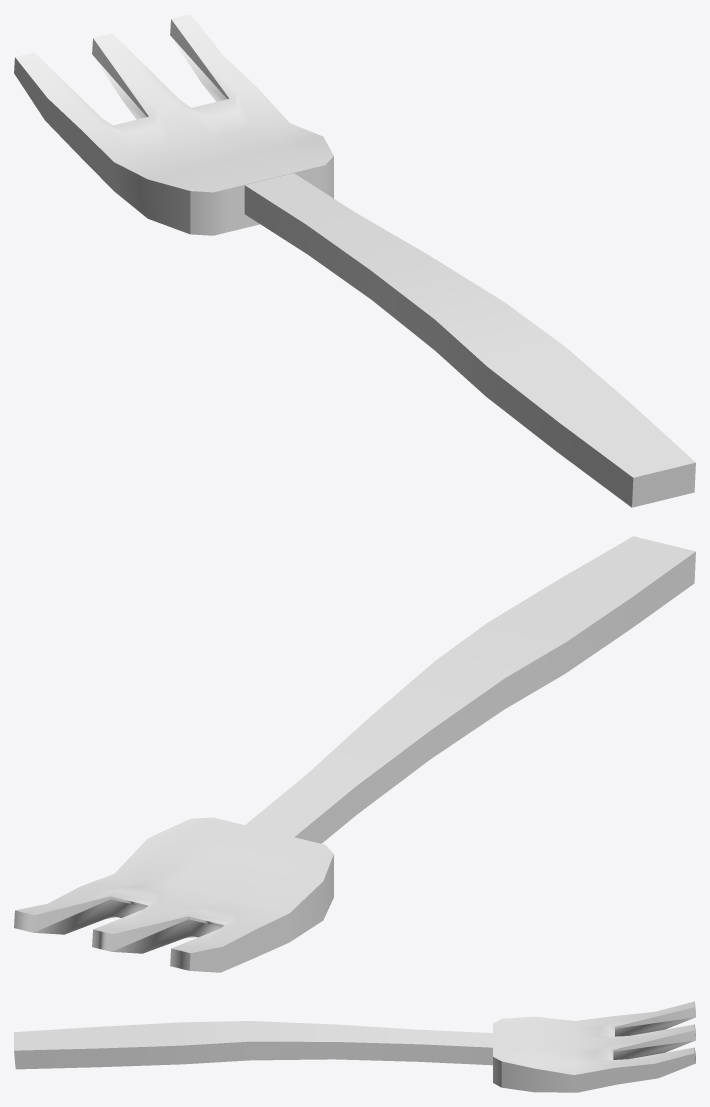
The model's file is fork.fbx.
3 views of the same model, one above another, from view 1: azimuth 30°, elevation 25°; view 2: azimuth 150°, elevation 25°; view 3: azimuth 270°, elevation 25° (orthographic). The views are drawn at different scales.
Parts seen in each view (by area): view 1: pCube3; view 2: pCube3; view 3: pCube3.
Part boxes in pixels (box(x1,y1,x2,y2)): pCube3: box(14, 14, 695, 507); pCube3: box(14, 536, 695, 972); pCube3: box(14, 1001, 695, 1092).
Bounding box in the file's own units: 2.02 × 0.7137 × 11.2.
Materials: 1 (1 with a texture image).
